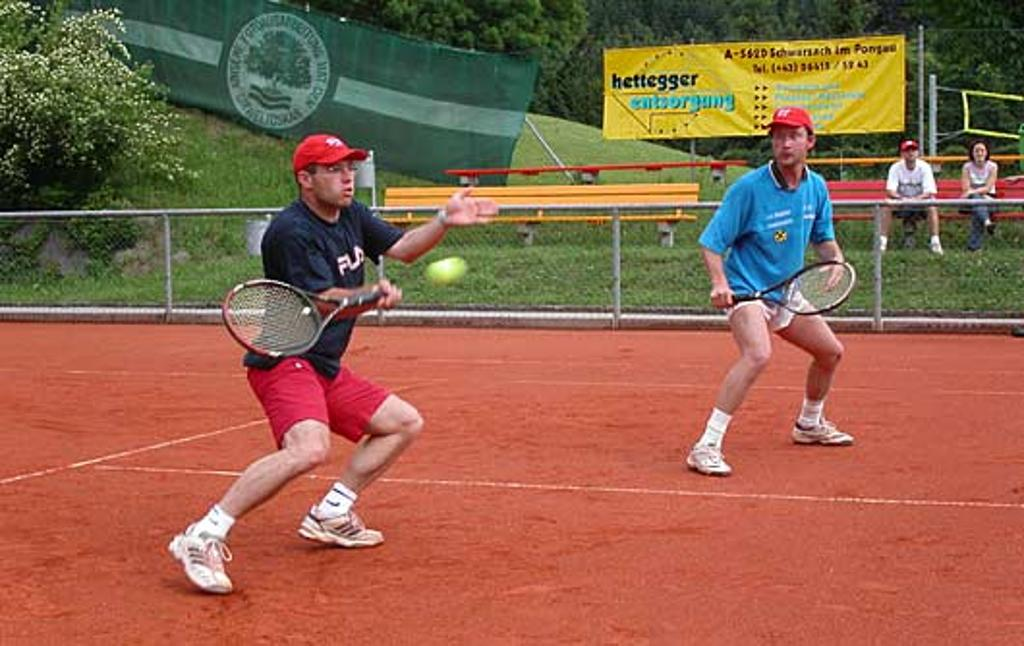face: (314, 152, 354, 206), (772, 123, 807, 164), (973, 143, 985, 161), (903, 145, 916, 159)
